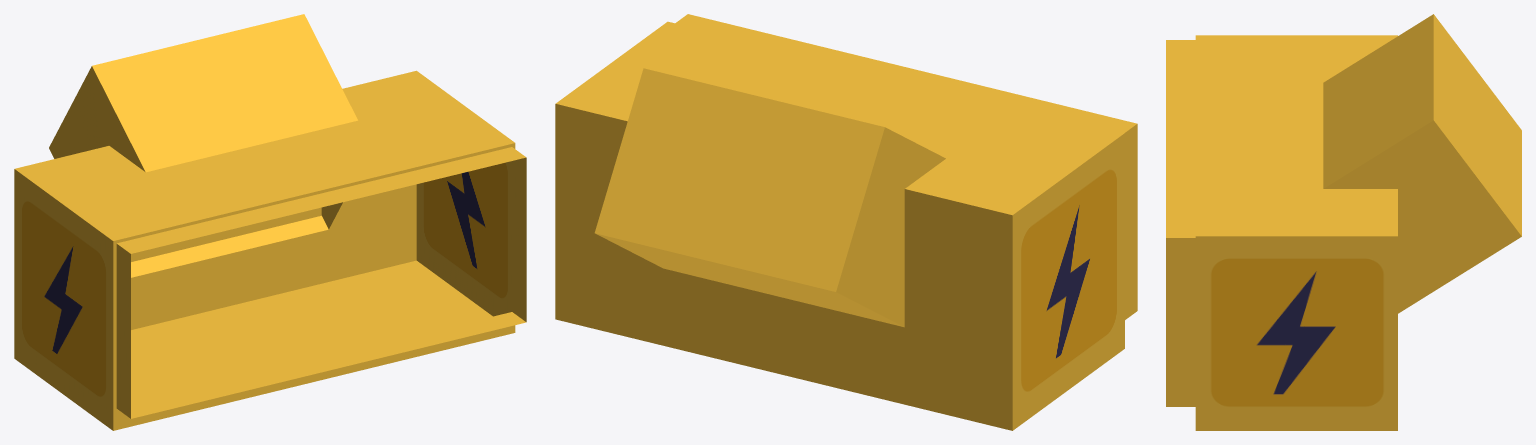
The model's file is Battery 3.fbx.
The picture shows the model from 3 angles, left to right: view 1: azimuth 30°, elevation 25°; view 2: azimuth 150°, elevation 25°; view 3: azimuth 270°, elevation 25°; orthographic projection. The views are drawn at different scales.
Parts seen in each view (by area): view 1: Battery 3; view 2: Battery 3; view 3: Battery 3.
Part boxes in pixels (bbox=[...]): Battery 3: bbox=[14, 14, 526, 430]; Battery 3: bbox=[555, 14, 1137, 430]; Battery 3: bbox=[1166, 14, 1521, 430].
Size of the model in its own units: 11.68 by 7.13 by 8.73.
